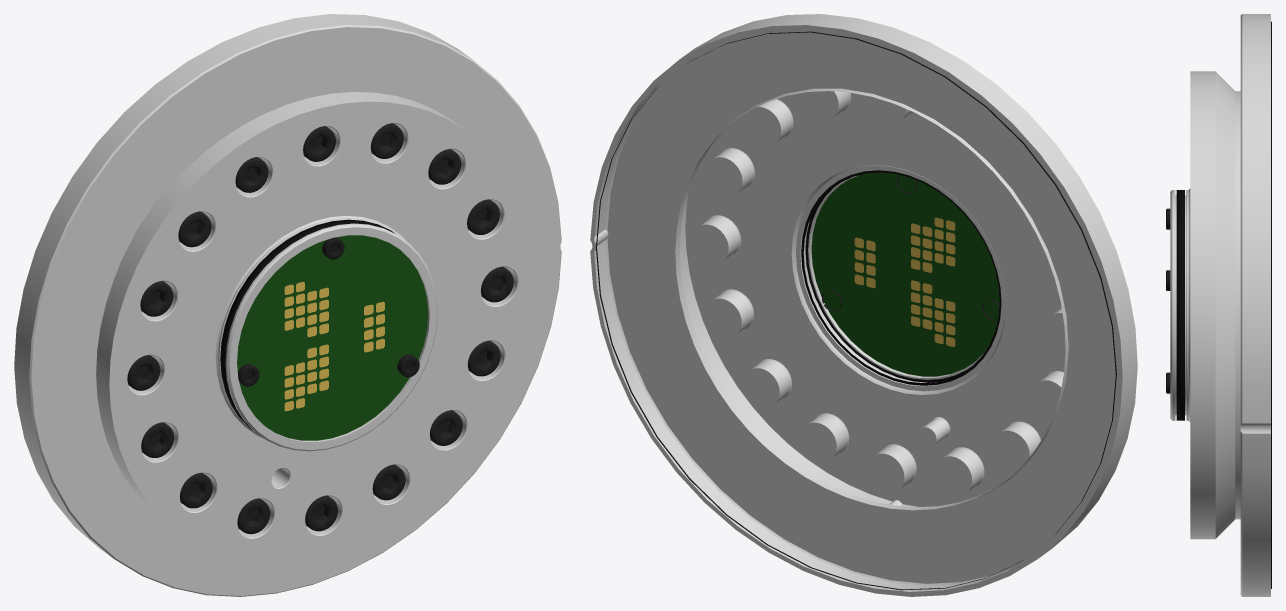
The model's file is BD116-distal.glb.
3 renders of one model, left to right at view 1: azimuth 30°, elevation 25°; view 2: azimuth 150°, elevation 25°; view 3: azimuth 270°, elevation 25°, orthographic. The views are drawn at different scales.
Parts seen in each view (by area): view 1: BD116-distal.001; view 2: BD116-distal.001; view 3: BD116-distal.001.
Part boxes in pixels (bbox=[...]): BD116-distal.001: bbox=[14, 14, 561, 596]; BD116-distal.001: bbox=[590, 14, 1137, 596]; BD116-distal.001: bbox=[1166, 14, 1271, 596].
Bounding box in the file's own units: 0.116 × 0.1158 × 0.021.
